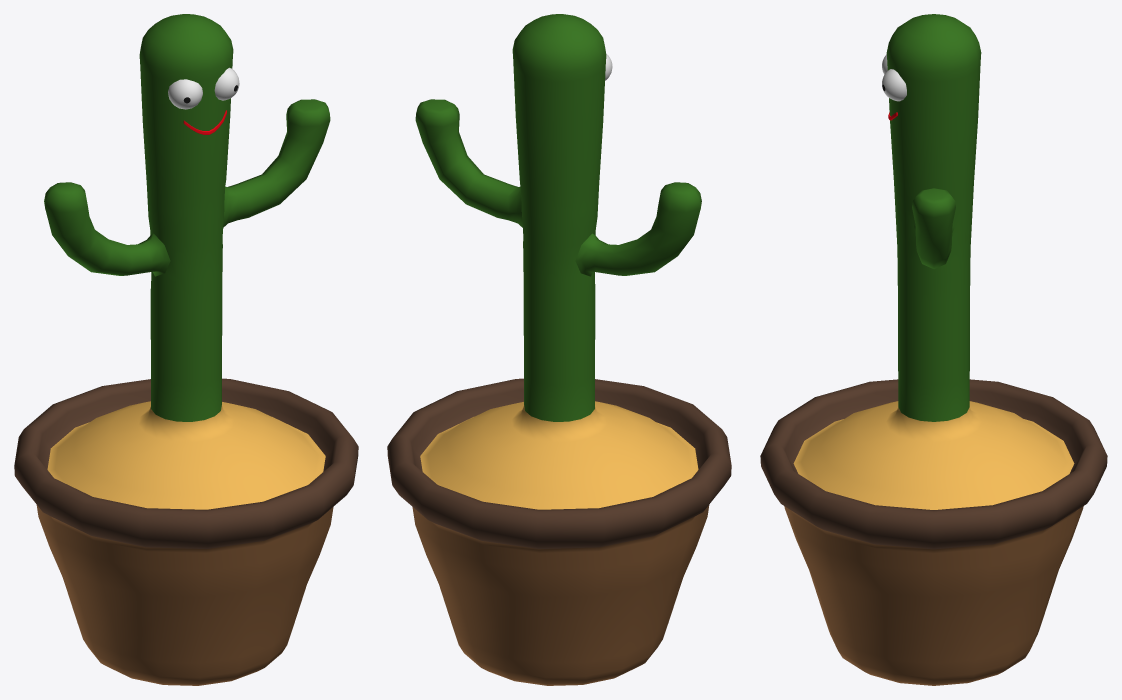
The model's file is cactus.glb.
3 renders of one model, left to right at view 1: azimuth 30°, elevation 25°; view 2: azimuth 150°, elevation 25°; view 3: azimuth 270°, elevation 25°, orthographic.
Parts seen in each view (by area): view 1: body, pot, boundary, mitti, Eye; view 2: body, pot, boundary, mitti; view 3: pot, body, boundary, mitti, Eye.
Boxes of the visible parts, bbox=[...] form: body: bbox=[44, 14, 330, 421]; pot: bbox=[36, 505, 333, 685]; boundary: bbox=[14, 378, 358, 548]; mitti: bbox=[47, 401, 325, 509]; Eye: bbox=[168, 67, 239, 109]; body: bbox=[415, 14, 701, 421]; pot: bbox=[412, 505, 709, 685]; boundary: bbox=[387, 378, 731, 548]; mitti: bbox=[420, 401, 698, 509]; pot: bbox=[784, 506, 1083, 685]; body: bbox=[886, 14, 981, 421]; boundary: bbox=[760, 379, 1107, 549]; mitti: bbox=[793, 401, 1074, 509]; Eye: bbox=[882, 54, 906, 101].
Size of the model in its own units: 3.52 by 7.07 by 3.52.
